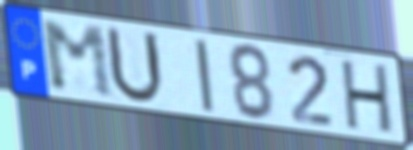2: (284, 53, 337, 130)
8: (226, 41, 278, 124)
H: (340, 59, 396, 138)
I: (191, 37, 217, 115)
M: (38, 19, 118, 102)
U: (102, 22, 167, 107)
